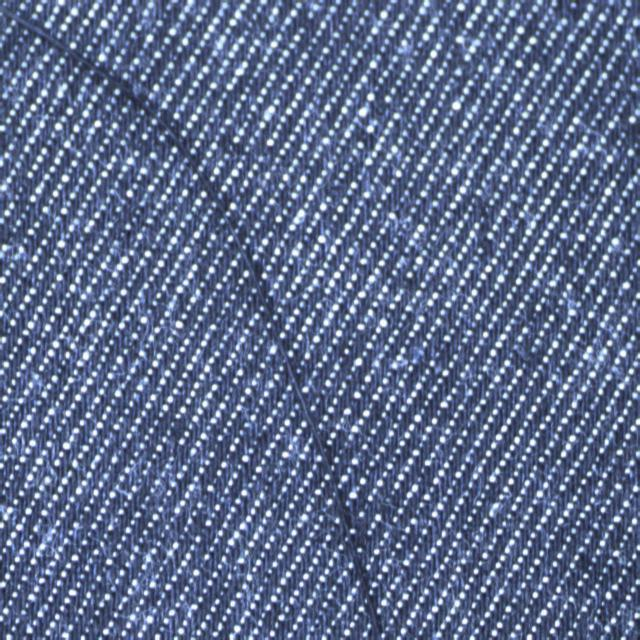defect: (7, 8, 401, 640)
